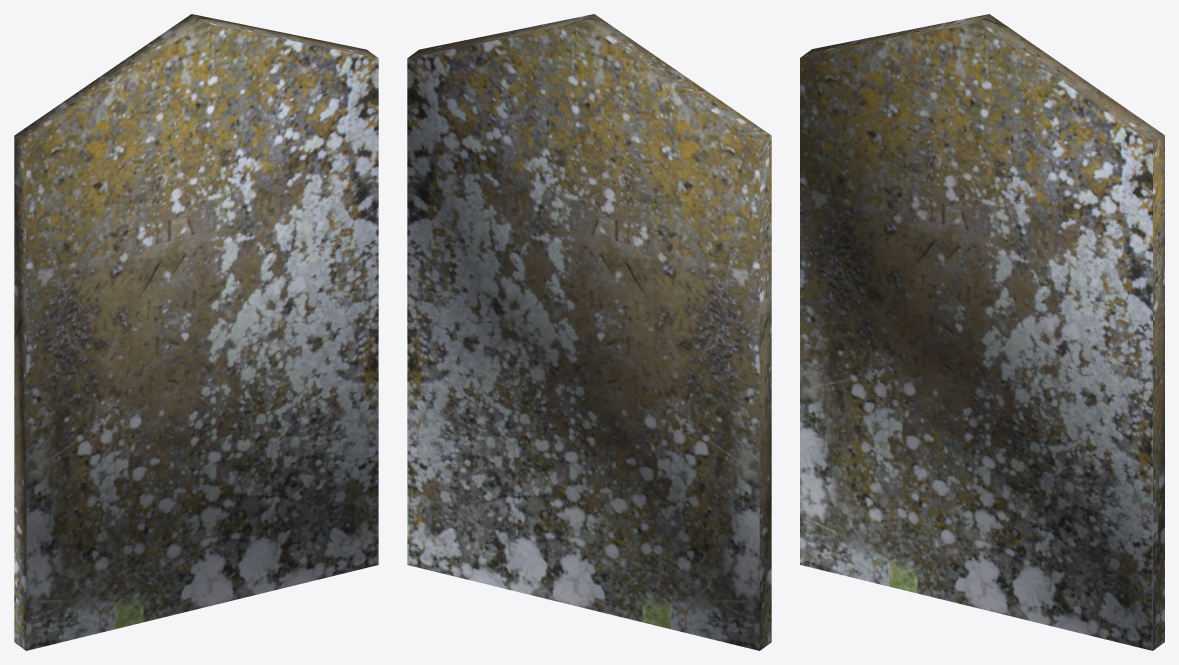
Rendered from gravestoneA.fbx.
The picture shows the model from 3 angles, left to right: view 1: azimuth 30°, elevation 25°; view 2: azimuth 150°, elevation 25°; view 3: azimuth 330°, elevation 25°; orthographic projection.
Parts seen in each view (by area): view 1: U3DMesh; view 2: U3DMesh; view 3: U3DMesh.
Boxes of the visible parts, x1,y1,x2,y2 form: U3DMesh: [14, 14, 378, 650]; U3DMesh: [407, 14, 771, 650]; U3DMesh: [800, 14, 1164, 650].
Size of the model in its own units: 31.28 by 49.6 by 1.83.
